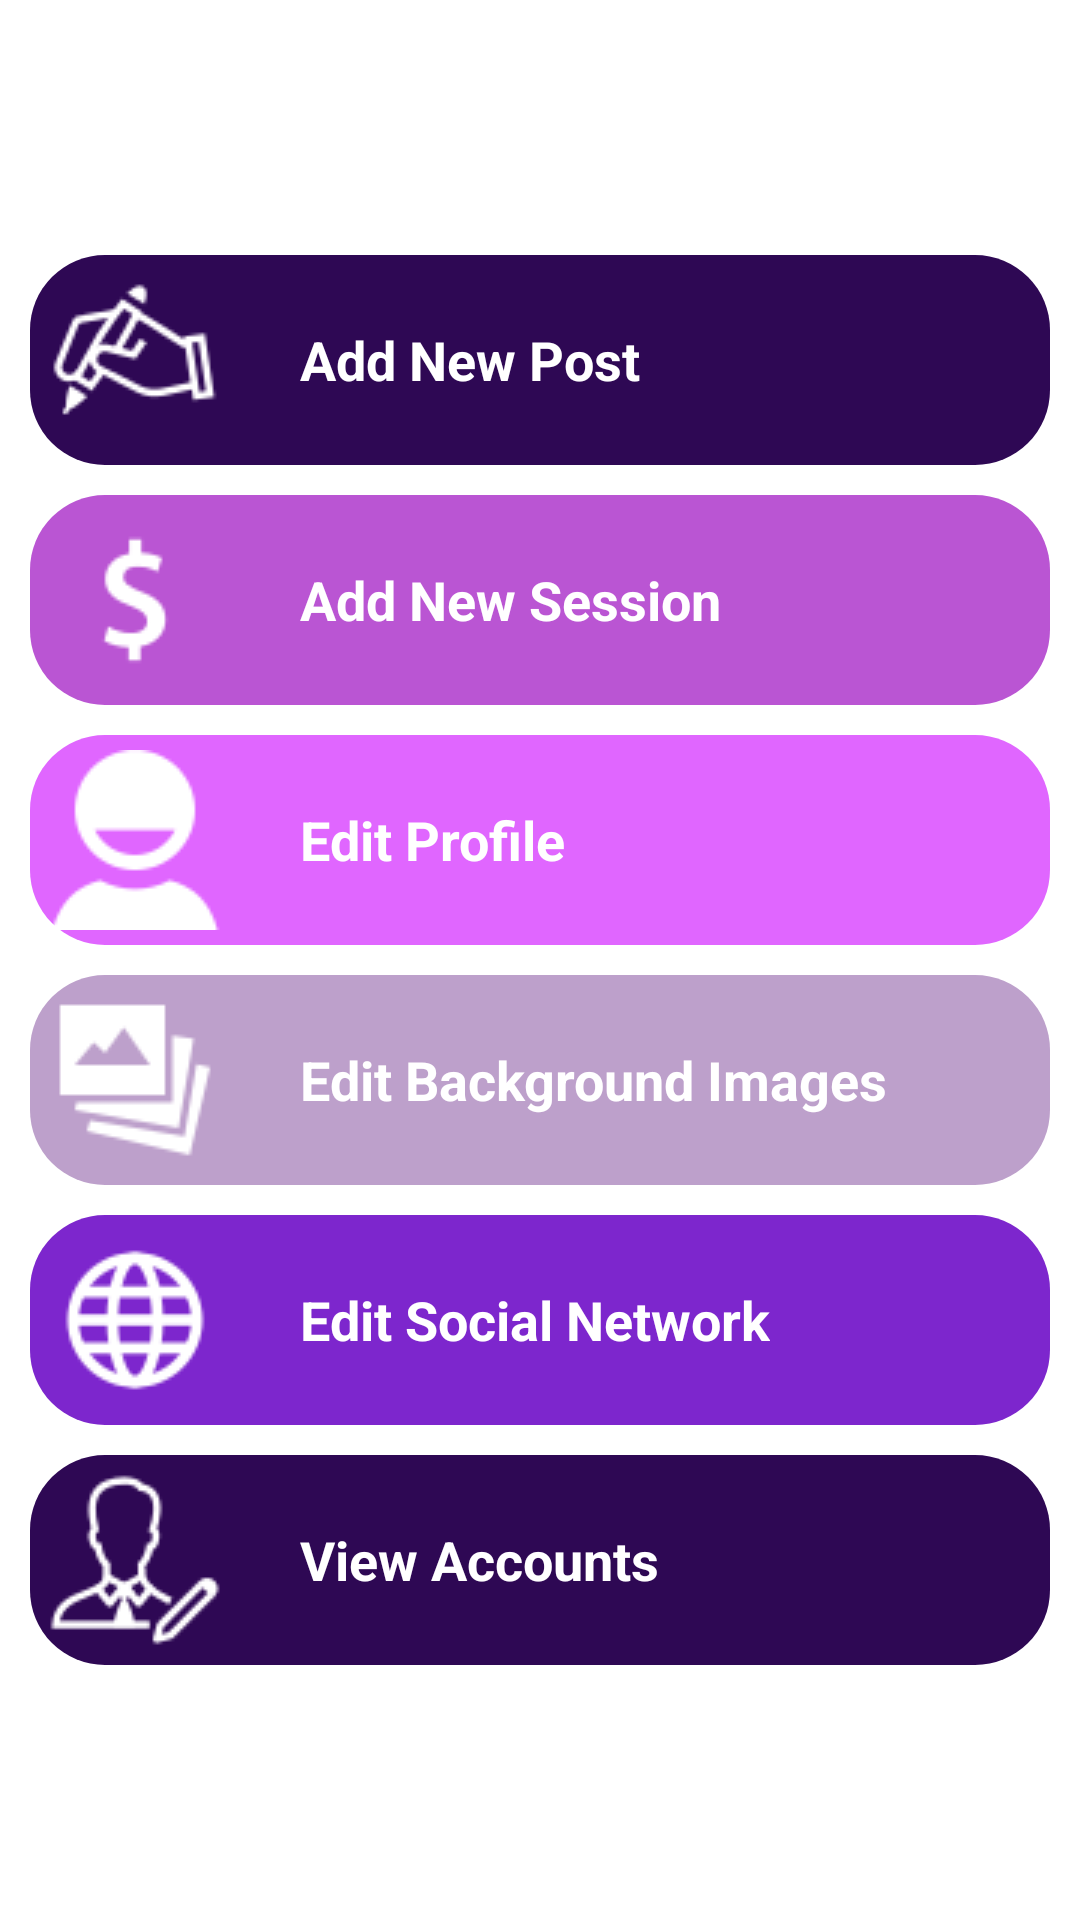

Icon click points for this 1080 x 1920 phone screenshot, format (x=x, y=y):
acc manage: (x=135, y=1560)
dollr: (x=135, y=600)
global: (x=135, y=1320)
handpen: (x=135, y=360)
photosz: (x=135, y=1080)
user: (x=135, y=840)
